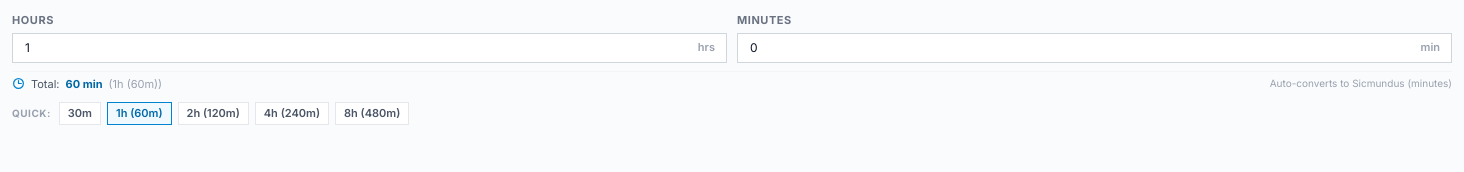
Scenario: DurationInput Component › updates total minutes when user changes minutes
Type "30" into the 2nd number field at (1094,48), box left=737, top=32, right=1452, bottom=62
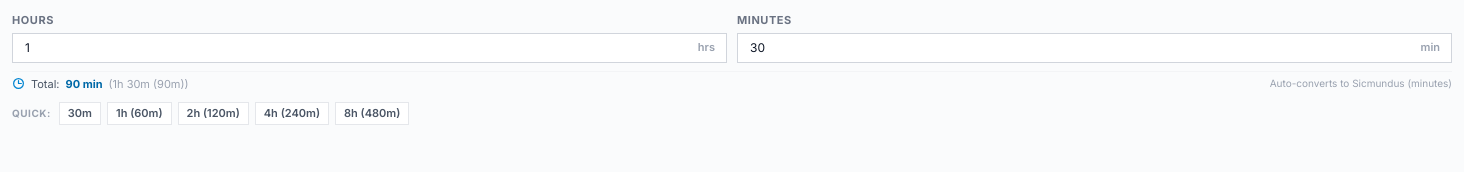
Result: the text "90 min" is shown at left=66, top=76, right=102, bottom=92
